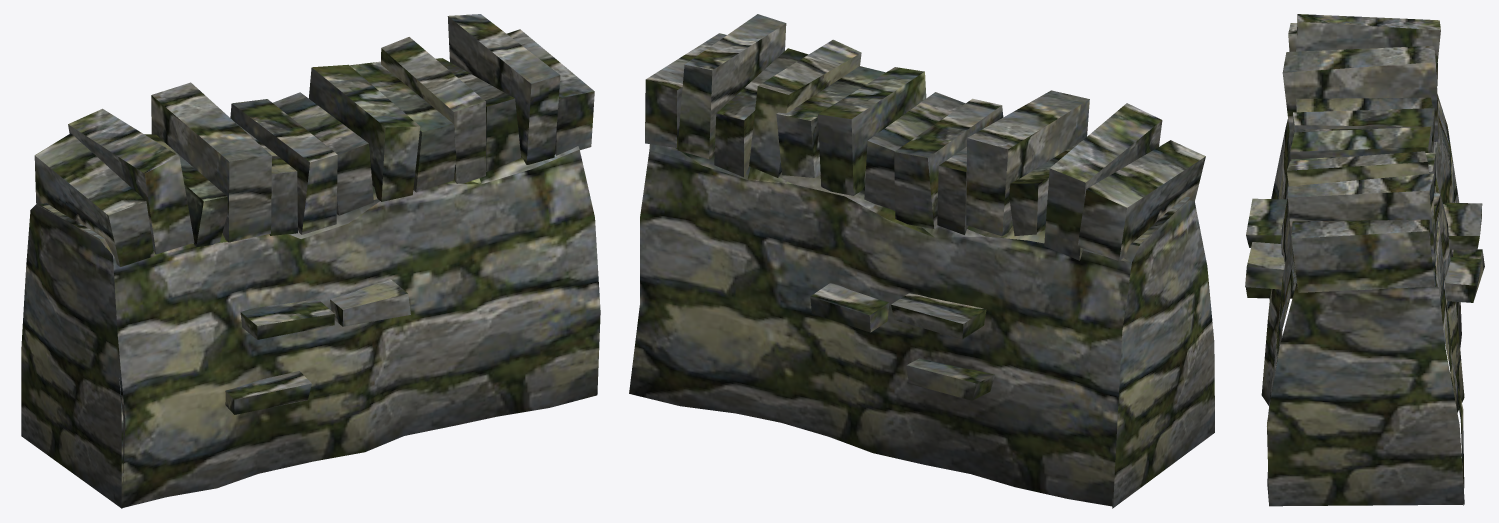
File: wall_drystone_straight_c.glb
The picture shows the model from 3 angles, left to right: view 1: azimuth 30°, elevation 25°; view 2: azimuth 150°, elevation 25°; view 3: azimuth 270°, elevation 25°; orthographic projection. The views are drawn at different scales.
Visible parts, largest first — view 1: wall_drystone_straight_c; view 2: wall_drystone_straight_c; view 3: wall_drystone_straight_c.
Part boxes in pixels (x1,y1,x2,y2): wall_drystone_straight_c: (21,14,600,508); wall_drystone_straight_c: (629,14,1214,508); wall_drystone_straight_c: (1245,14,1484,506).
Size of the model in its own units: 2.07 by 1.32 by 0.9401.
Materials: 1 (1 with a texture image).
